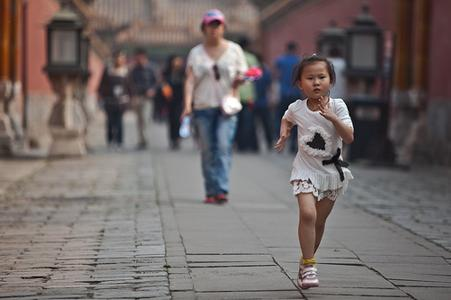person: (273, 50, 356, 289)
